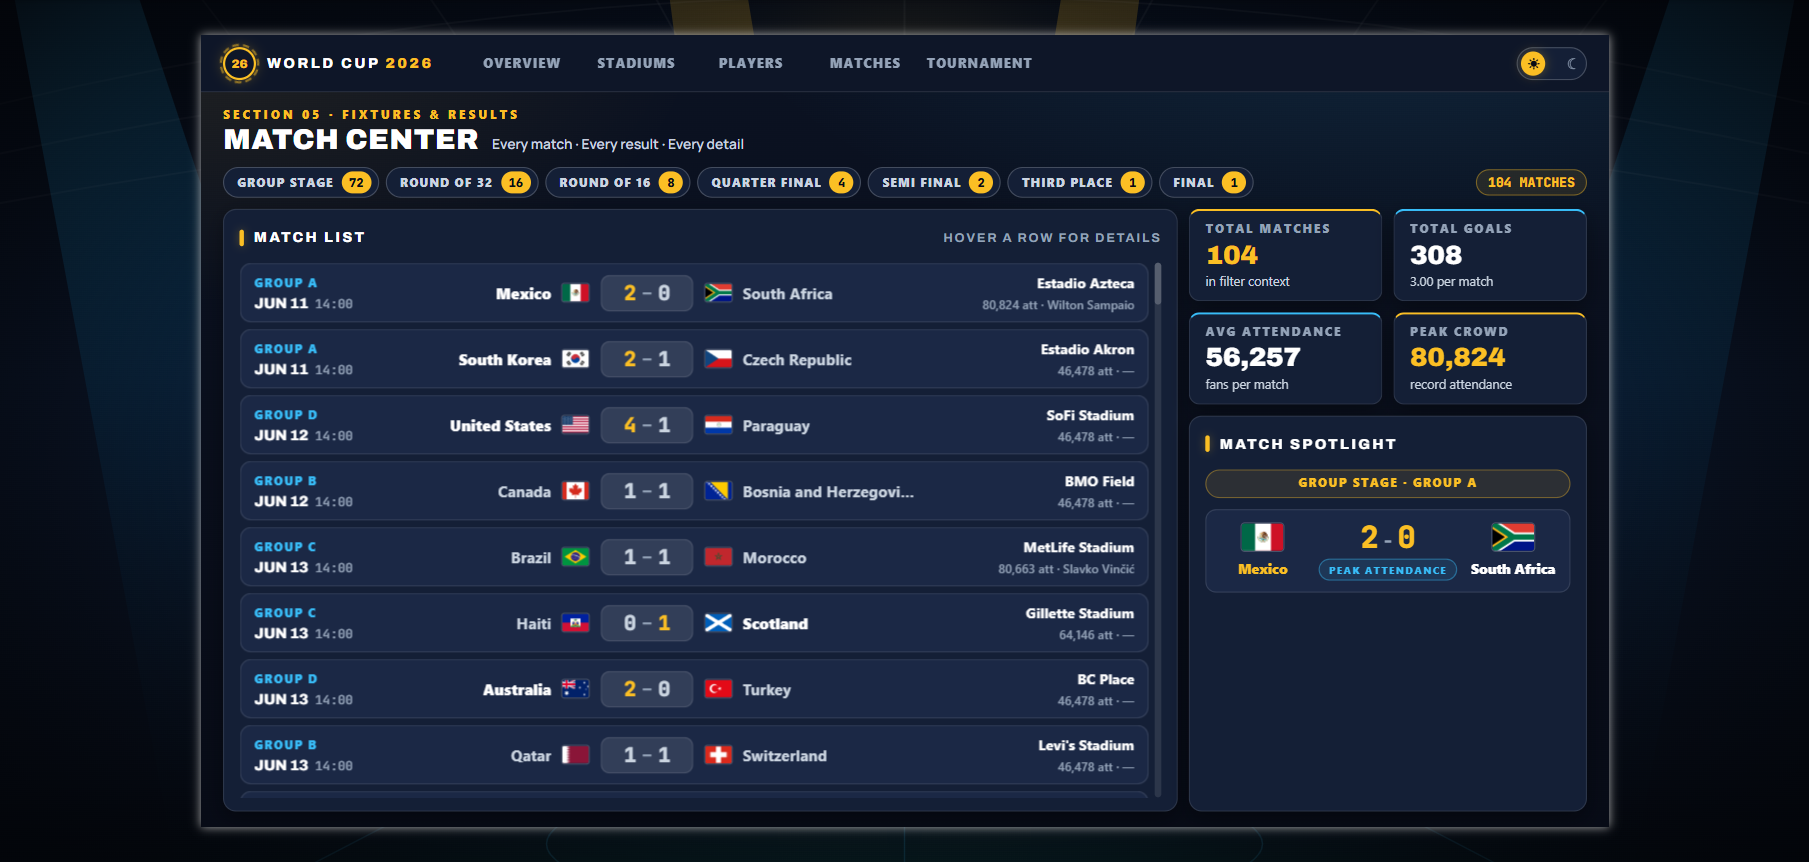

The dashboard page shown, as its layout file describes it:
{"tool":"powerbi","page":{"name":"Matches Page","canvas":[1280,720],"ordinal":4},"visuals":[{"type":"htmlContent443BE3AD55E043BF878BED274D3A6855","fields":{"content":["HTML Visuals.Matches_Page"]},"box":[0,0,1280,720],"z":0},{"type":"actionButton","title":"Tournament","box":[656,0,104,51],"z":1},{"type":"actionButton","title":"Players","box":[448,0,104,51],"z":3},{"type":"actionButton","title":"Stadiums","box":[344,0,104,51],"z":4},{"type":"actionButton","title":"Overview","box":[240,0,104,51],"z":5},{"type":"advancedSlicerVisual","fields":{"Values":["dim_stage.stage"]},"box":[20,120,933,28],"z":6}]}

Visuals, with their boxes on the page's 1280x720 design canvas (x1, y1, x2, y2). These are canvas units, not pixel positions in the 1809x862 screenshot, which may show the page scaled, cropped or inside an application window:
htmlContent443BE3AD55E043BF878BED274D3A6855 - HTML Visuals.Matches_Page: Rect(0, 0, 1280, 720)
"Tournament" actionButton: Rect(656, 0, 760, 51)
"Players" actionButton: Rect(448, 0, 552, 51)
"Stadiums" actionButton: Rect(344, 0, 448, 51)
"Overview" actionButton: Rect(240, 0, 344, 51)
advancedSlicerVisual - dim_stage.stage: Rect(20, 120, 953, 148)
